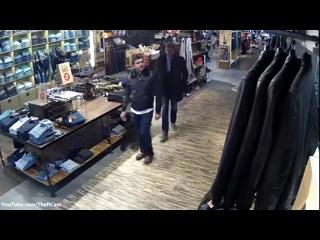Normal: (120, 51, 160, 165), (152, 42, 188, 144)
